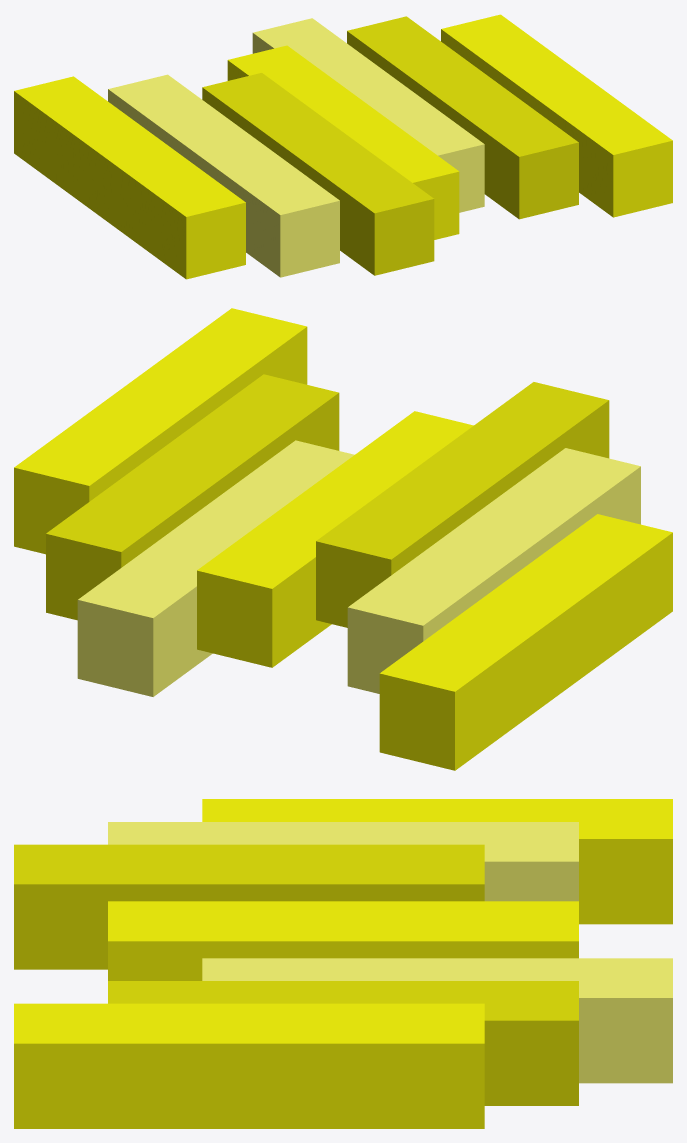
Rendered from YellowBlock_Ship.fbx.
The picture shows the model from 3 angles, top to bottom: view 1: azimuth 30°, elevation 25°; view 2: azimuth 150°, elevation 25°; view 3: azimuth 270°, elevation 25°; orthographic projection. The views are drawn at different scales.
Parts seen in each view (by area): view 1: Cube.151, Cube.111, Cube.013; view 2: Cube.151, Cube.111, Cube.013; view 3: Cube.151, Cube.111, Cube.013.
Boxes of the visible parts, x1=… form: Cube.151: x1=14, y1=14, x2=672, y2=279; Cube.111: x1=202, y1=16, x2=578, y2=275; Cube.013: x1=108, y1=18, x2=484, y2=277; Cube.151: x1=14, y1=308, x2=672, y2=770; Cube.111: x1=46, y1=374, x2=609, y2=627; Cube.013: x1=77, y1=440, x2=640, y2=696; Cube.151: x1=14, y1=799, x2=672, y2=1128; Cube.111: x1=14, y1=844, x2=578, y2=1105; Cube.013: x1=108, y1=822, x2=672, y2=1083.
Size of the model in its own units: 7 by 1.4 by 7.
